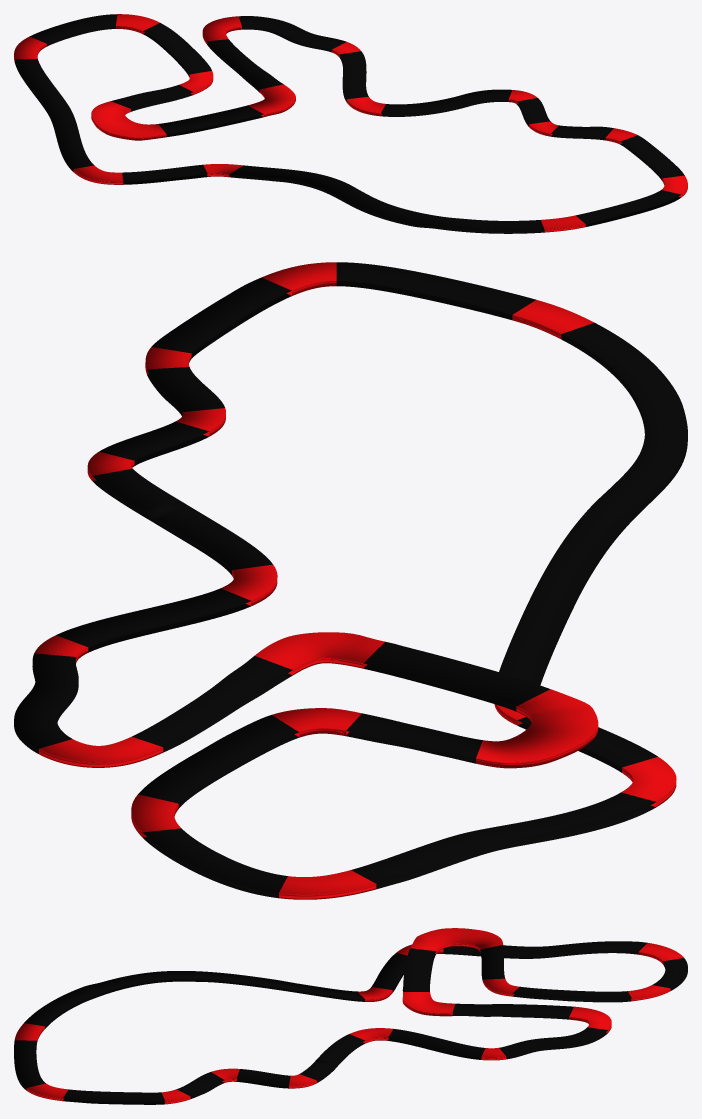
File: pLEASejustWorkRoad.fbx
3 renders of one model, top to bottom at view 1: azimuth 30°, elevation 25°; view 2: azimuth 150°, elevation 25°; view 3: azimuth 270°, elevation 25°, orthographic. The views are drawn at different scales.
Parts seen in each view (by area): view 1: Road; view 2: Road; view 3: Road.
Boxes of the visible parts, box(x1,y1,x2,y2) form: Road: box(14, 14, 687, 233); Road: box(14, 262, 687, 899); Road: box(14, 928, 687, 1104).
Bounding box in the file's own units: 117739 × 11249 × 169861.
